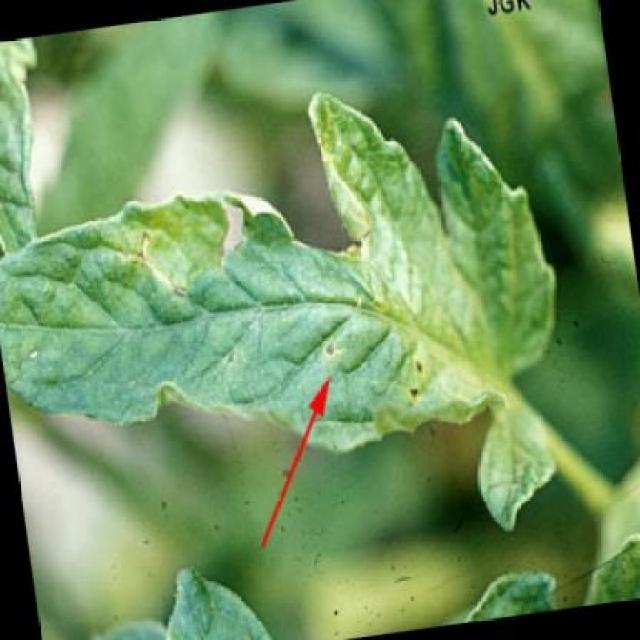Tomato leaf bacterial spot: (0, 60, 582, 505)
